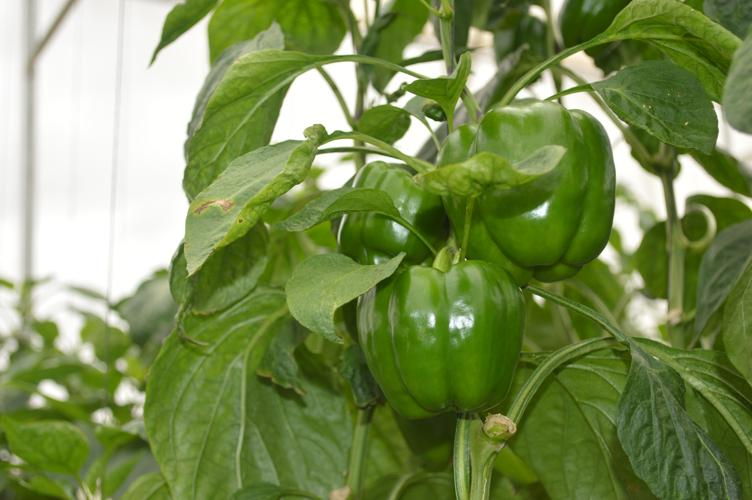BellPepper: (444, 95, 622, 281), (361, 263, 534, 426), (329, 151, 456, 276)
